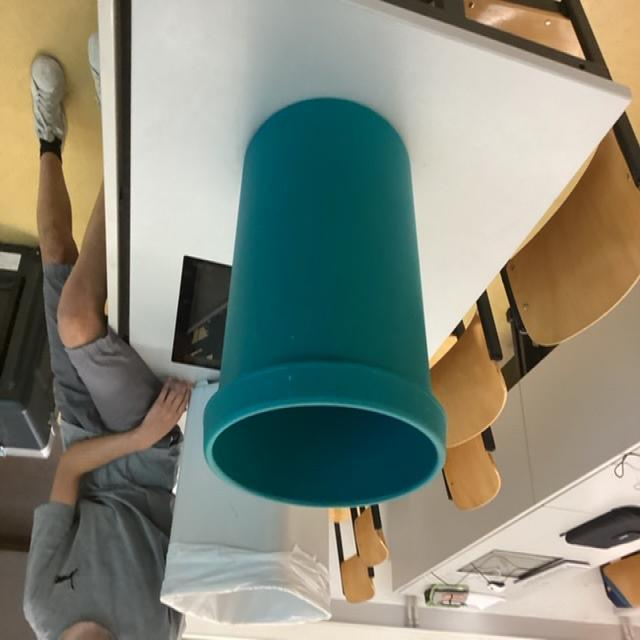garbage container: (198, 69, 476, 549)
